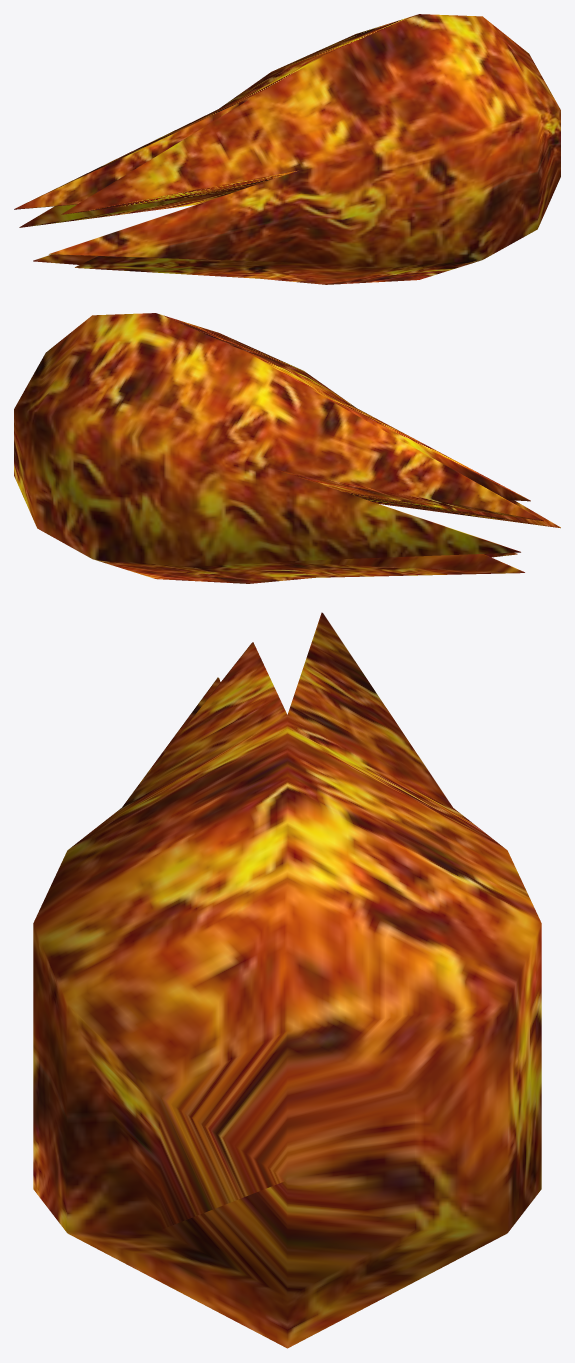
The model's file is fireball-low-tex.obj.
3 views of the same model, one above another, from view 1: azimuth 30°, elevation 25°; view 2: azimuth 150°, elevation 25°; view 3: azimuth 270°, elevation 25° (orthographic). The views are drawn at different scales.
Parts seen in each view (by area): view 1: Vertex_Object; view 2: Vertex_Object; view 3: Vertex_Object.
Boxes of the visible parts, x1,y1,x2,y2 form: Vertex_Object: (14,14,560,284); Vertex_Object: (14,313,560,583); Vertex_Object: (33,612,541,1348).
Size of the model in its own units: 143 by 69.28 by 60.
2 materials, 2 textured.
